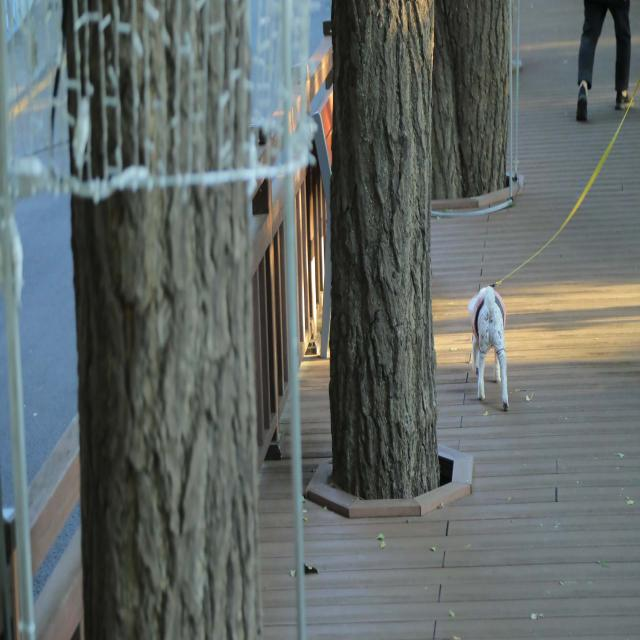Dog: (470, 284, 510, 412)
